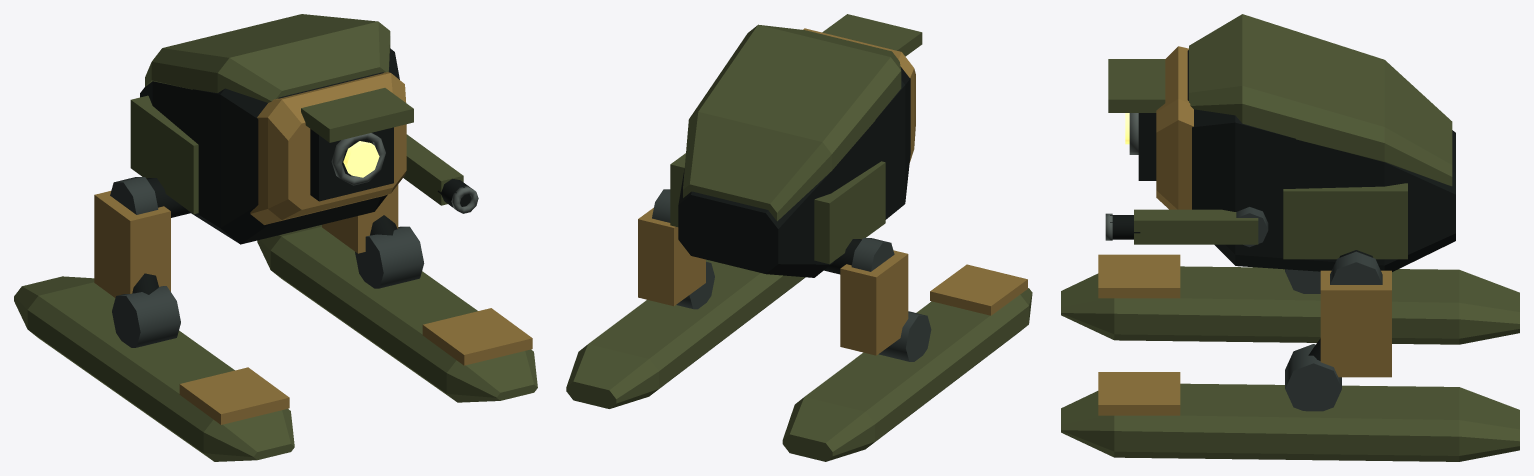
File: DARTER.far.glb
3 views of the same model, side by side, from view 1: azimuth 30°, elevation 25°; view 2: azimuth 150°, elevation 25°; view 3: azimuth 270°, elevation 25° (orthographic). The views are drawn at different scales.
Visible parts, largest first — view 1: BodyBank_Mesh, Skate_L_Mesh, Skate_R_Mesh, Suspension_Mesh, ProjectionArm_Mesh; view 2: BodyBank_Mesh, Skate_L_Mesh, Skate_R_Mesh, Suspension_Mesh; view 3: BodyBank_Mesh, Skate_R_Mesh, Skate_L_Mesh, Suspension_Mesh, ProjectionArm_Mesh.
Part boxes in pixels (x1,y1,x2,y2): BodyBank_Mesh: (130,14,413,244); Skate_L_Mesh: (14,276,294,461); Skate_R_Mesh: (257,225,537,402); Suspension_Mesh: (94,177,398,297); ProjectionArm_Mesh: (403,134,478,213); BodyBank_Mesh: (670,14,922,277); Skate_L_Mesh: (782,264,1032,461); Skate_R_Mesh: (566,259,805,408); Suspension_Mesh: (638,189,908,355); BodyBank_Mesh: (1108,14,1455,271); Skate_R_Mesh: (1061,344,1519,461); Skate_L_Mesh: (1061,254,1519,344); Suspension_Mesh: (1308,250,1391,377); ProjectionArm_Mesh: (1105,207,1268,247).
Size of the model in its own units: 1.07 by 1.06 by 1.29.
